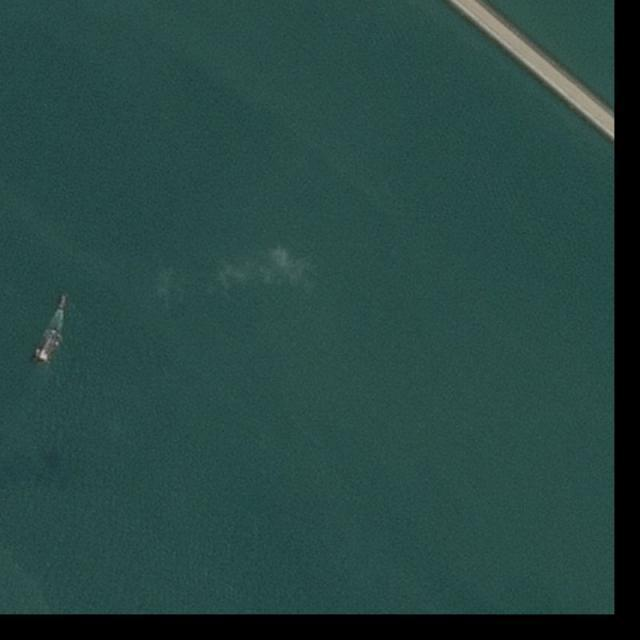ship: (31, 326, 66, 364), (58, 294, 69, 307)
